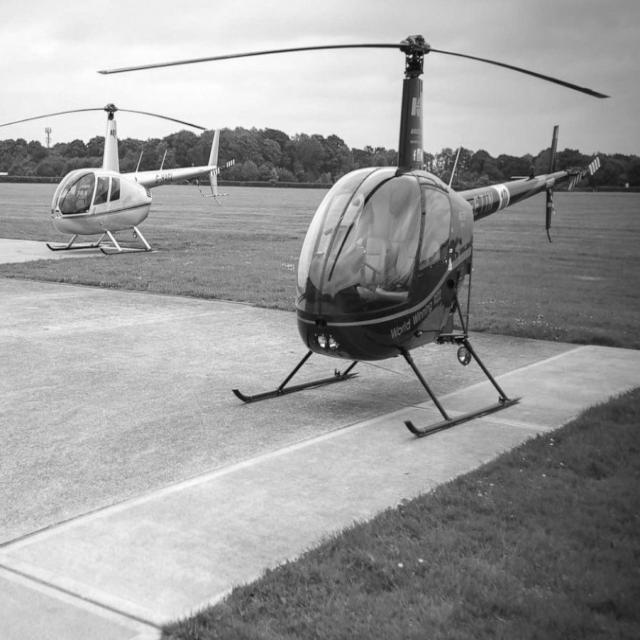helicopter: (98, 32, 611, 441), (1, 107, 239, 262)
